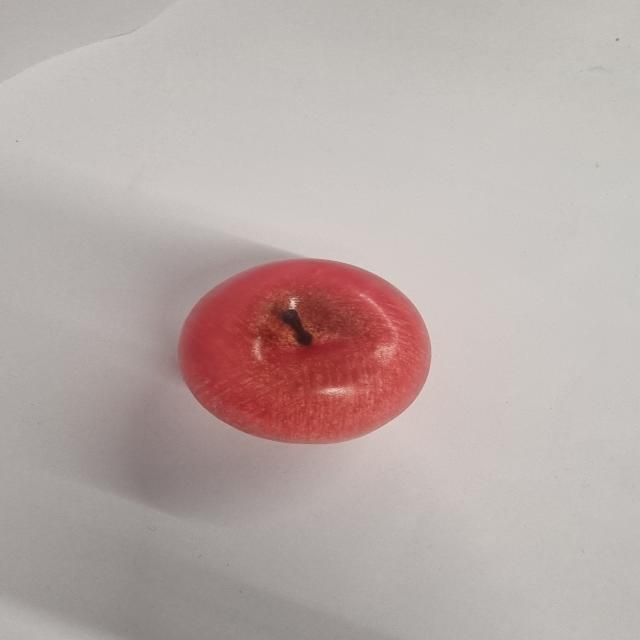apple: (181, 257, 431, 444)
